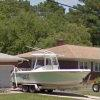Boat: (11, 52, 95, 93)
